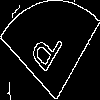P: (25, 25, 64, 82)
